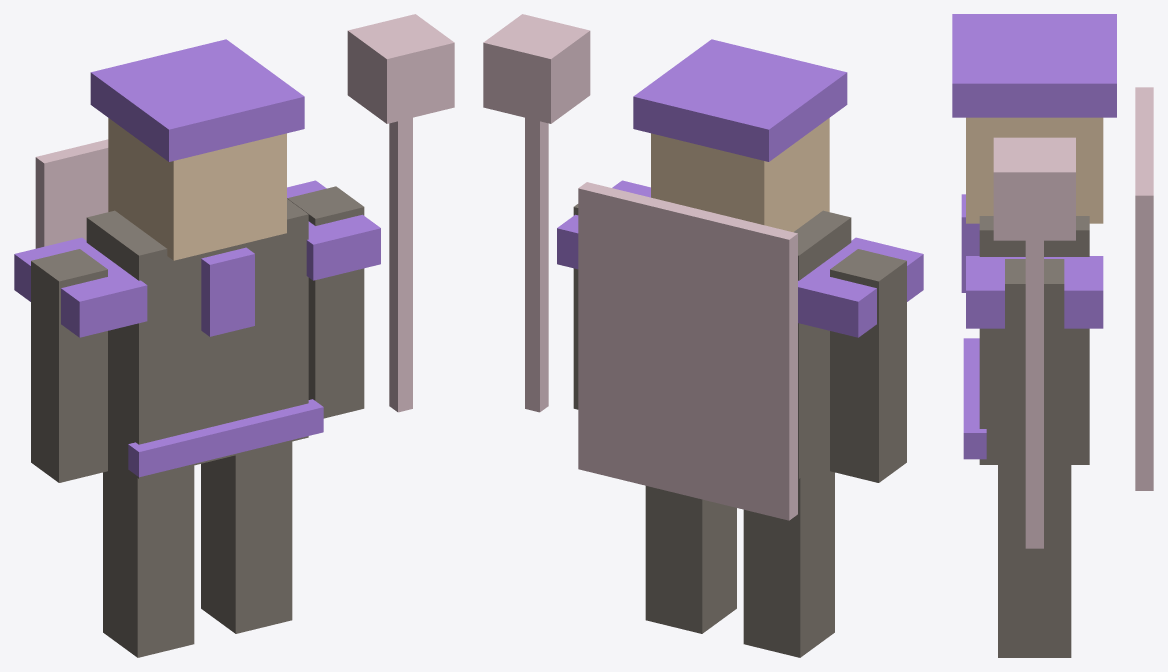
File: 08_draven_frostrelay_tactician_from_pack.glb
3 views of the same model, side by side, from view 1: azimuth 30°, elevation 25°; view 2: azimuth 150°, elevation 25°; view 3: azimuth 270°, elevation 25° (orthographic). The views are drawn at different scales.
Visible parts, largest first — view 1: Draven Frostrelay, Tactician from Pack; view 2: Draven Frostrelay, Tactician from Pack; view 3: Draven Frostrelay, Tactician from Pack.
Boxes of the visible parts, x1,y1,x2,y2 form: Draven Frostrelay, Tactician from Pack: (14,14,454,657); Draven Frostrelay, Tactician from Pack: (483,14,923,657); Draven Frostrelay, Tactician from Pack: (952,14,1153,657).
Bounding box in the file's own units: 1.08 × 1.43 × 0.4591.
